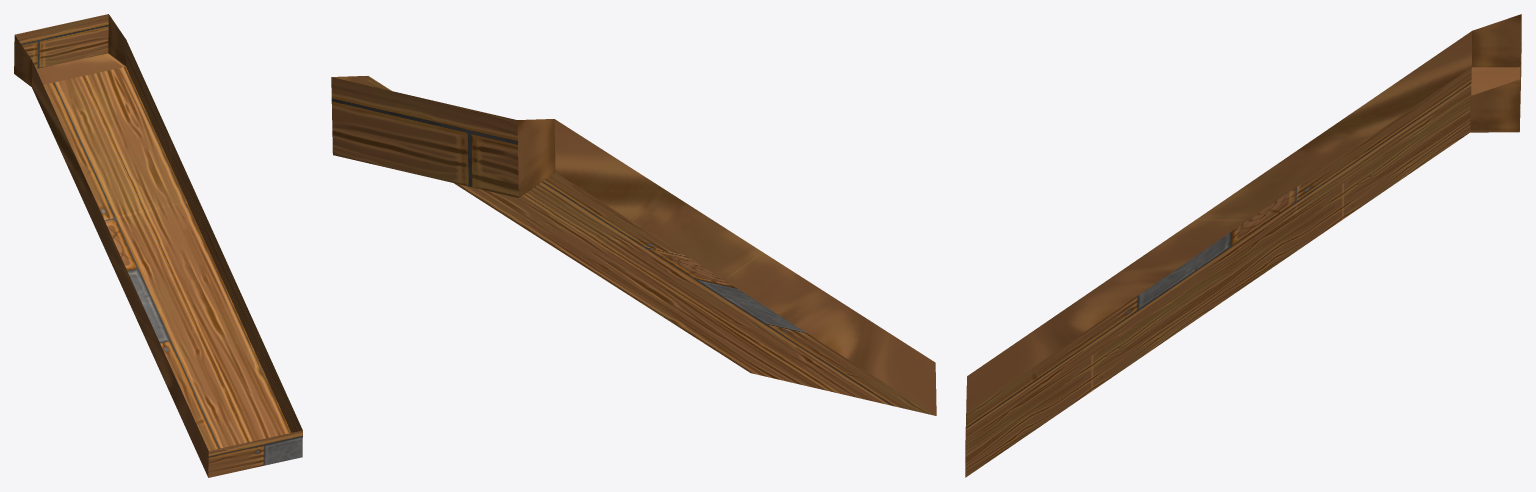
3 views of the same model, side by side, from view 1: azimuth 30°, elevation 25°; view 2: azimuth 150°, elevation 25°; view 3: azimuth 270°, elevation 25° (orthographic). The views are drawn at different scales.
Visible parts, largest first — view 1: Cube.497; view 2: Cube.497; view 3: Cube.497.
Part boxes in pixels (left/top/right/bottom): Cube.497: left=14, top=14, right=302, bottom=477; Cube.497: left=331, top=76, right=936, bottom=415; Cube.497: left=965, top=14, right=1521, bottom=477.
Size of the model in its own units: 231 by 643 by 798.
1 material, 1 textured.
